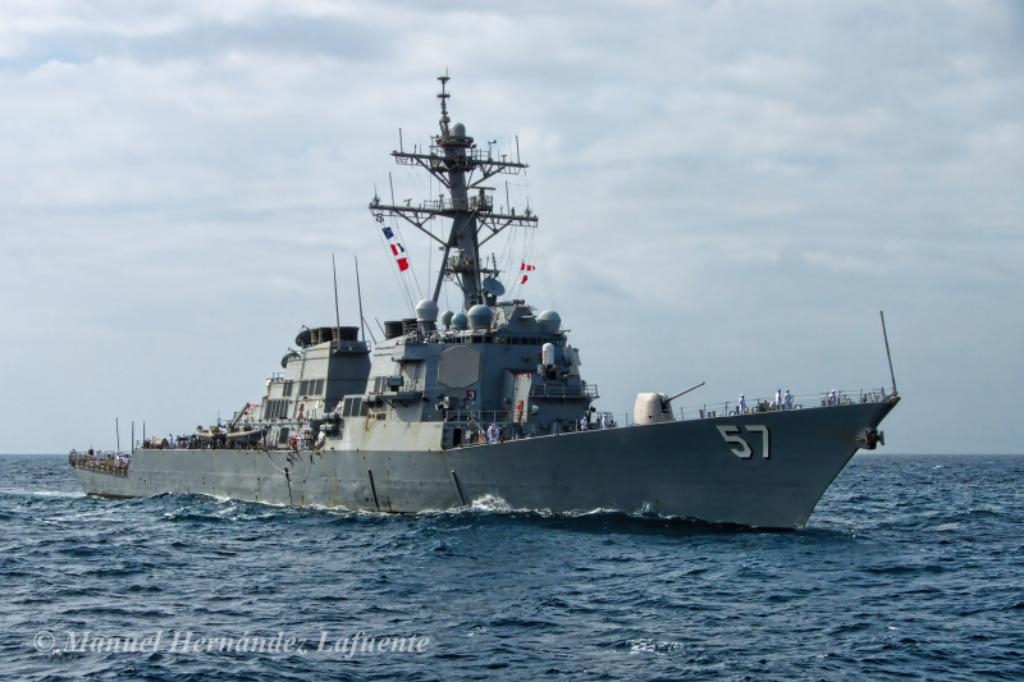Warship: (62, 68, 912, 534)
